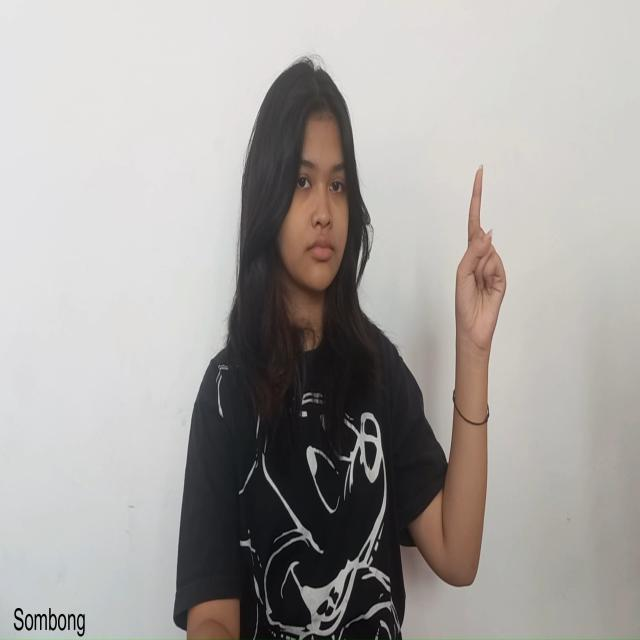Sombong -BISINDO-: (452, 161, 508, 372)
